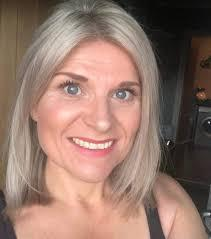normalEye: (54, 68, 144, 108)
normalMouth: (63, 132, 121, 161)
